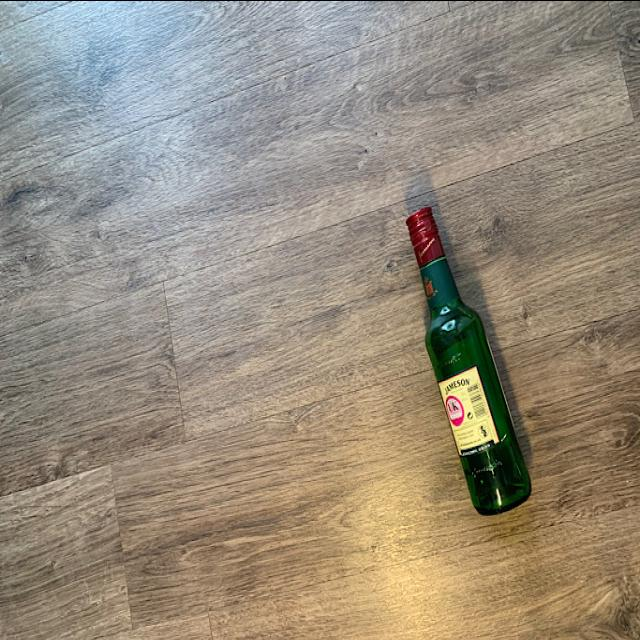litter: (403, 204, 536, 516)
